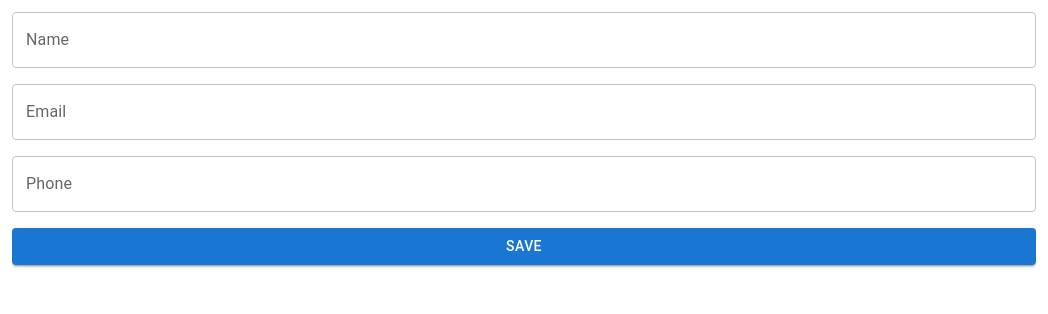
ClientForm › shows an error and blocks submit for an invalid phone number
Type "Acme Farms" into the field labelled "Name" at x=524, y=40, box [12,12,1036,68]
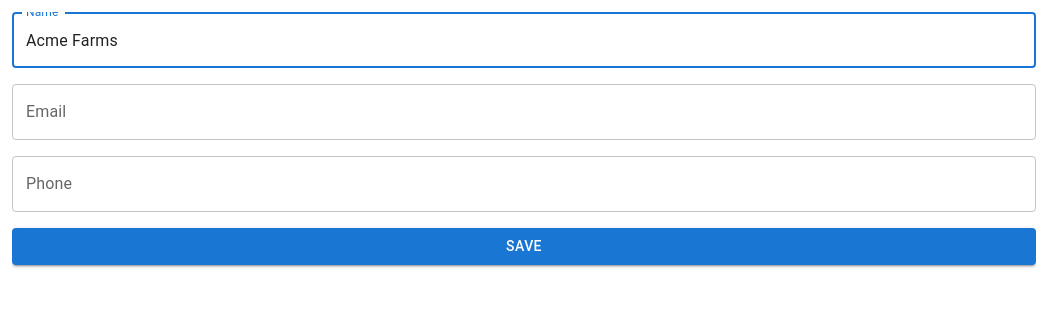
Type "555" into the field labelled "Phone" at x=524, y=184, box [12,156,1036,212]
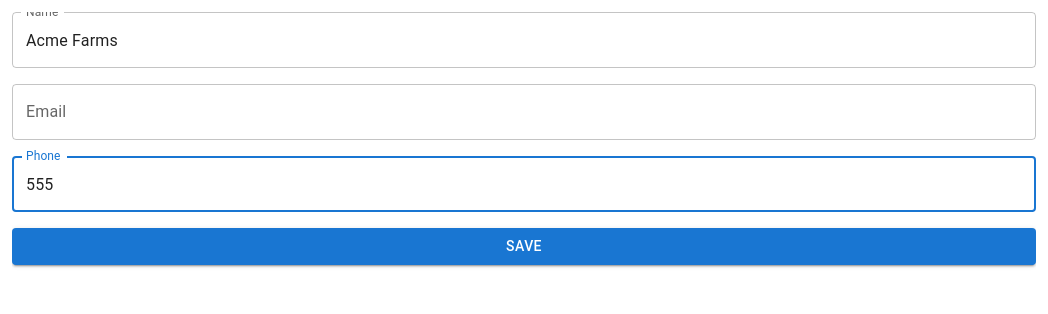
Click the button "Save" at x=524, y=246, box [12,228,1036,264]
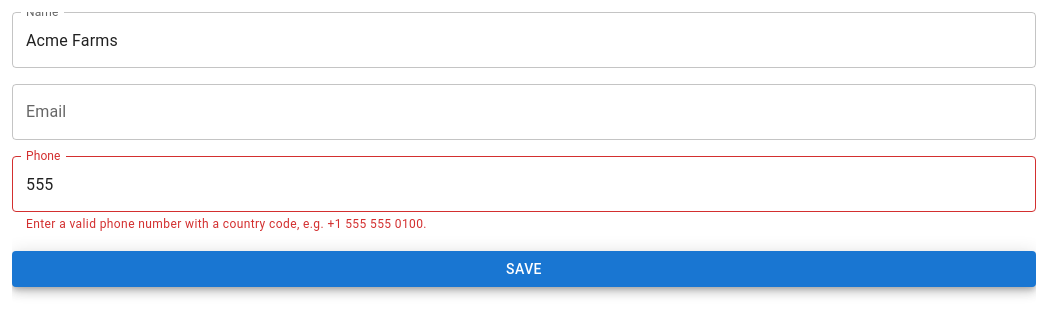
Result: the text "valid phone" is shown at [26,217,427,231]
